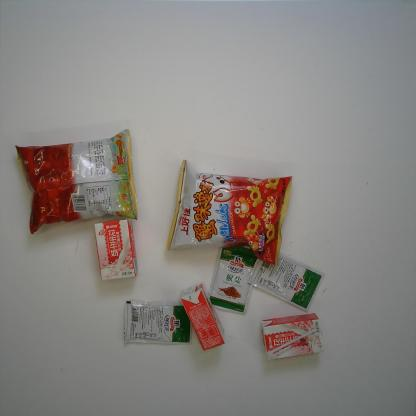Milk: (259, 312, 325, 361), (180, 282, 225, 352), (94, 218, 138, 282)
Puffed Food: (164, 158, 294, 266), (14, 128, 139, 235)
Seasoner: (248, 251, 326, 313), (208, 245, 259, 316), (123, 298, 192, 344)
